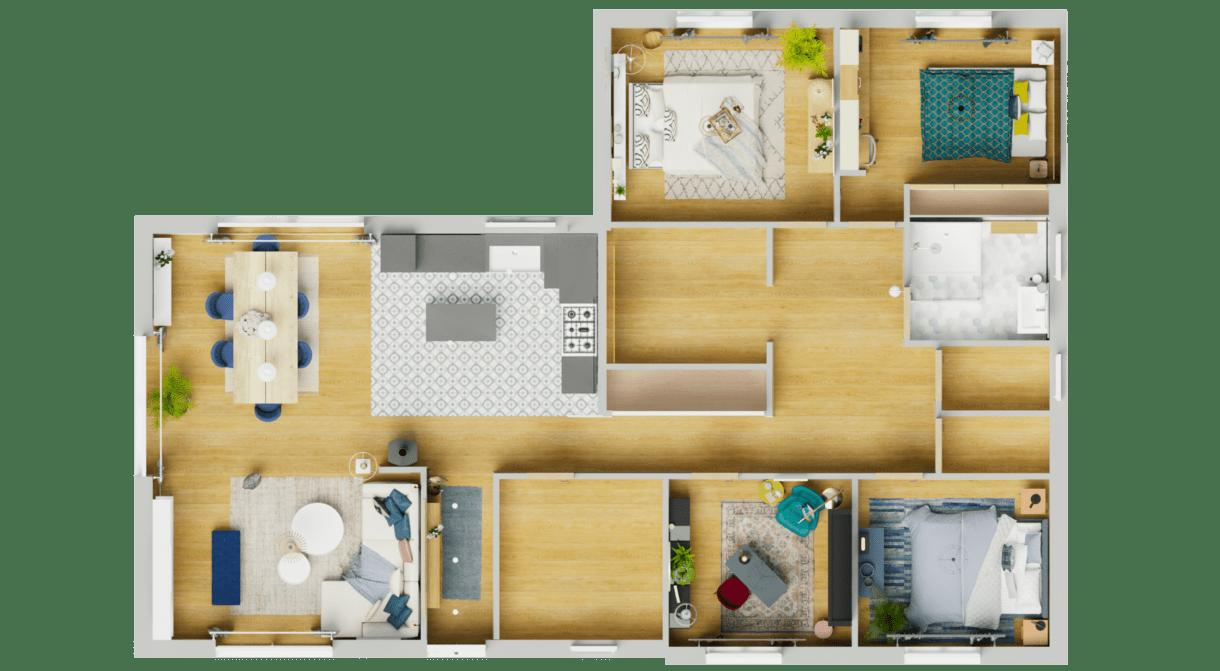room: (144, 221, 610, 651), (604, 19, 838, 223), (838, 19, 1061, 219), (856, 478, 1052, 653), (667, 474, 857, 652)
